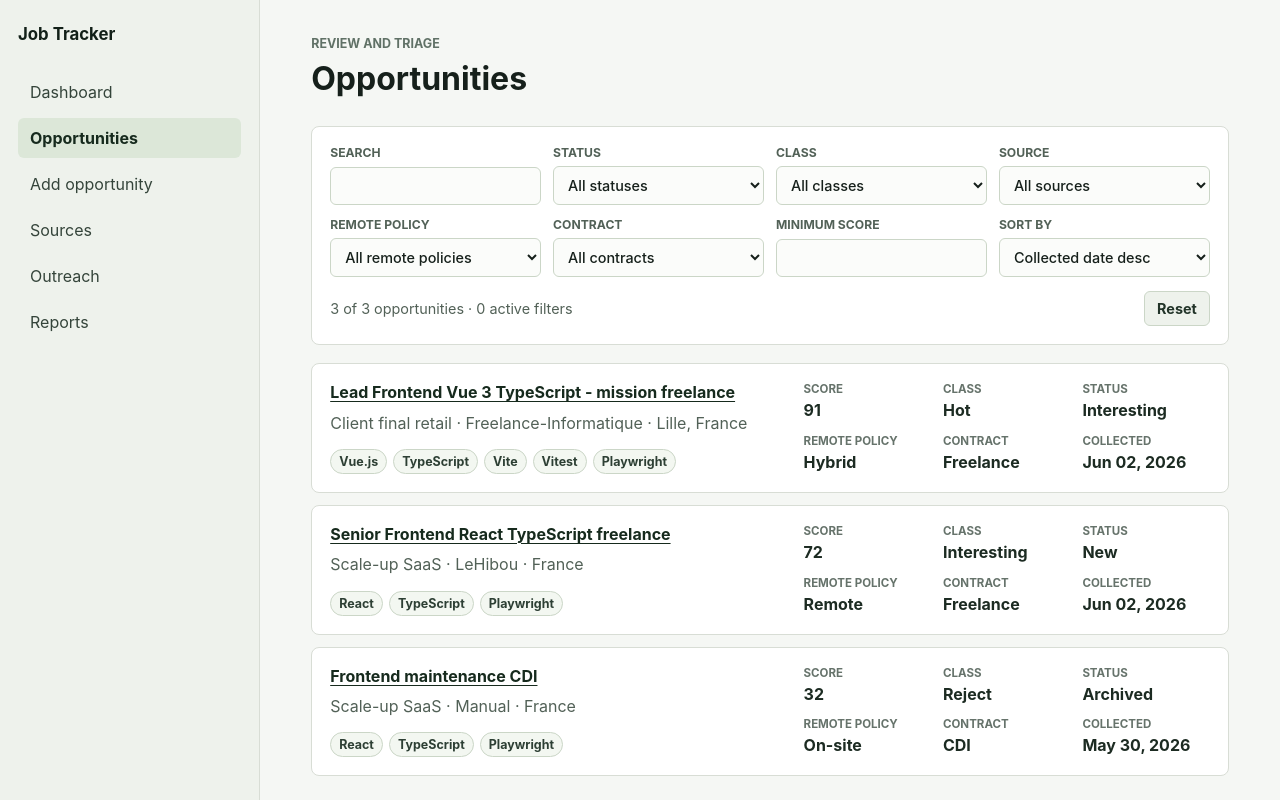
OpportunitiesPage › combines filters and keeps the state readable
Step 1. Select "new" in the dropdown labelled "Status" → (659, 186), box [553,166,764,205]
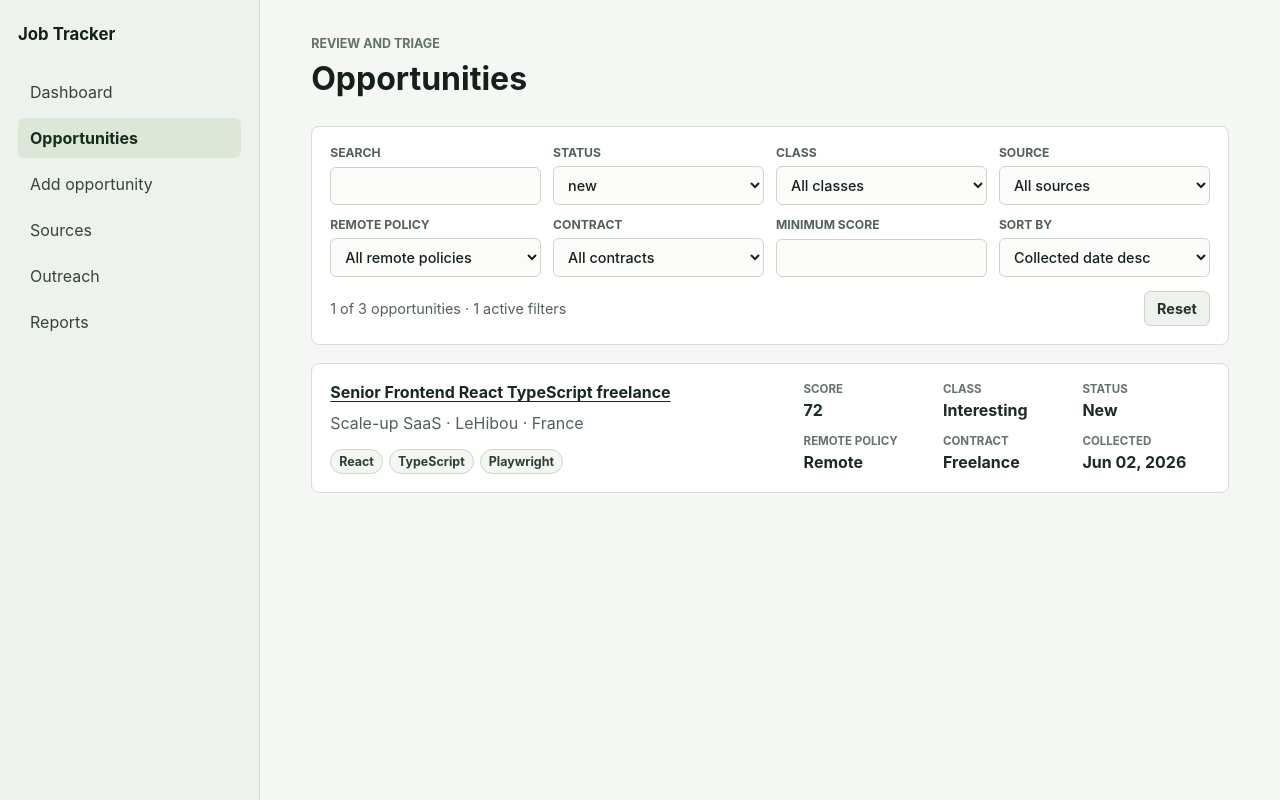
Step 2. Select "LeHibou" in the dropdown labelled "Source" → (1104, 186), box [999,166,1210,205]
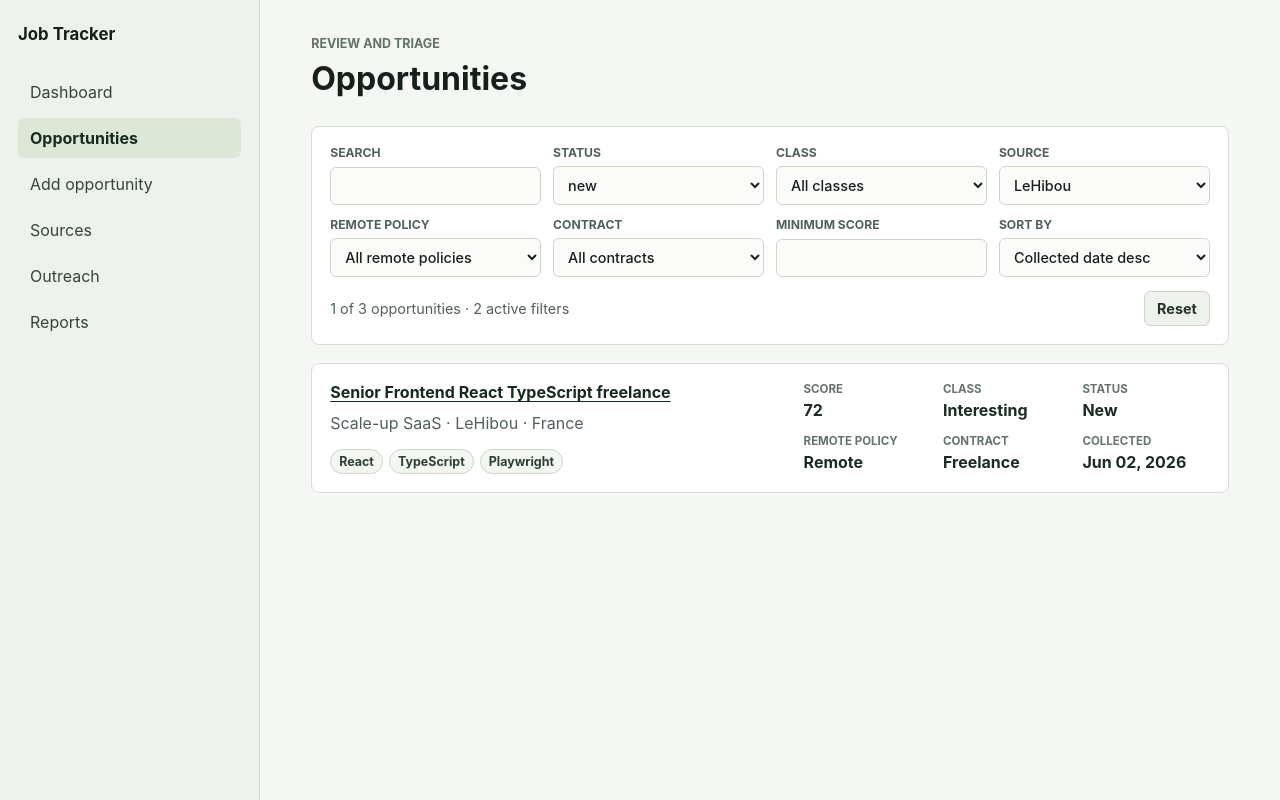
Step 3. Type "react remote" into the search field labelled "Search" → (436, 186), box [330,167,541,205]
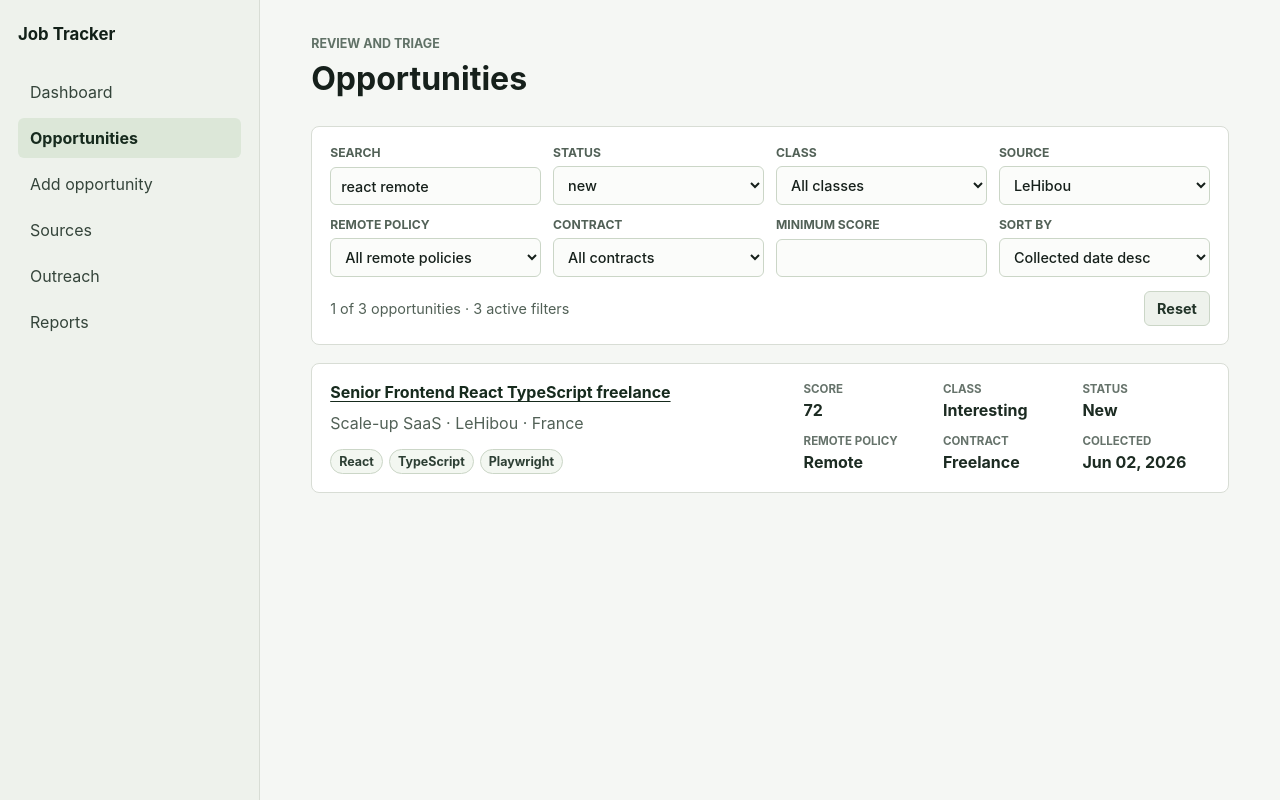
Expected: the element "Senior Frontend React TypeScript freelance" is shown, [311,363,1229,493]
Now the text "1 of 3 opportunities · 3 active filters" is shown, box [330,300,569,317]
